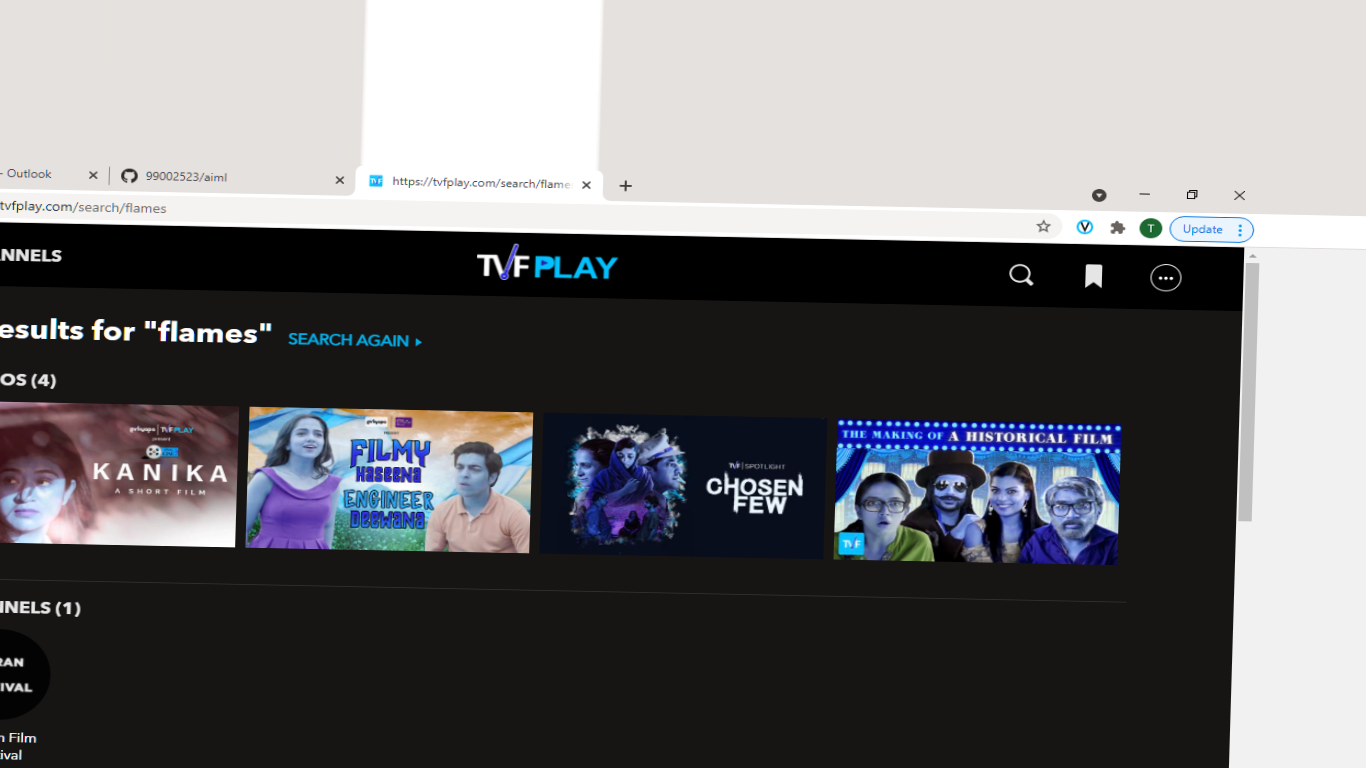resultsfound: (1, 293, 438, 372)
searchtextbox: (990, 249, 1057, 308)
